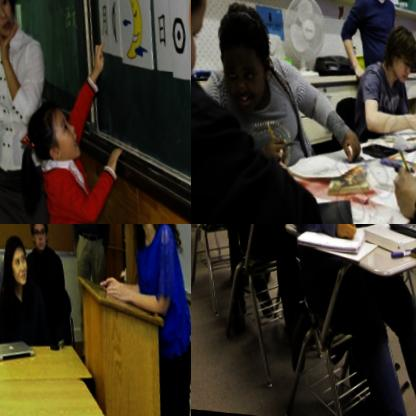head: (204, 2, 281, 116), (16, 96, 83, 164), (372, 14, 416, 87), (0, 231, 28, 285), (0, 0, 23, 46), (21, 224, 48, 251)
